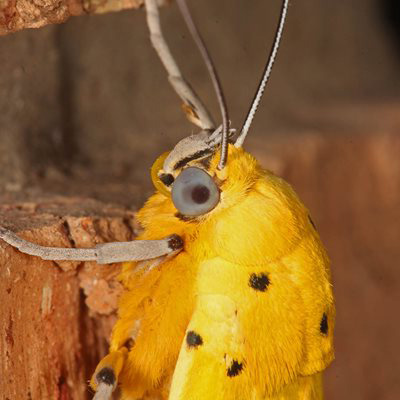Agape chloropyga: (1, 1, 339, 400)
moth: (1, 1, 339, 400)
